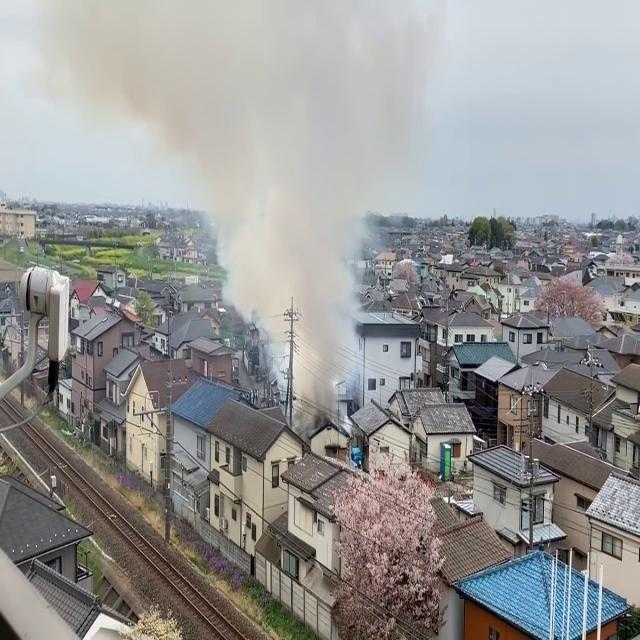Smoke: (143, 1, 376, 414)
